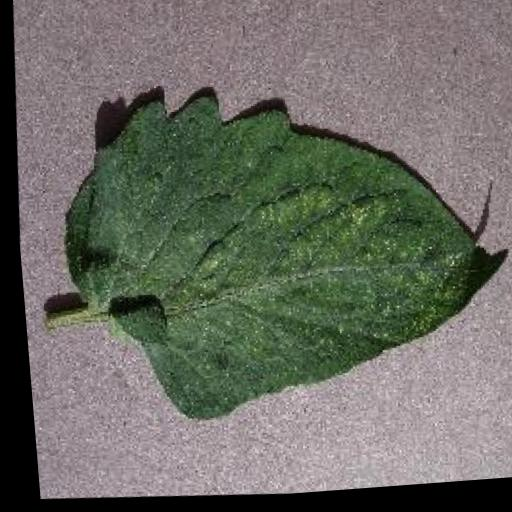Spider Mites: (43, 68, 512, 448)
